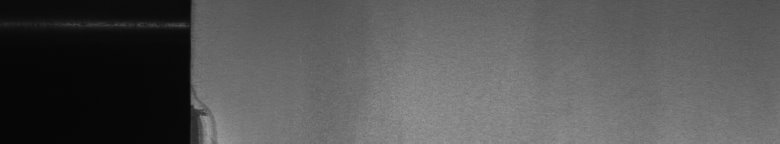hb: (200, 100, 220, 136)
